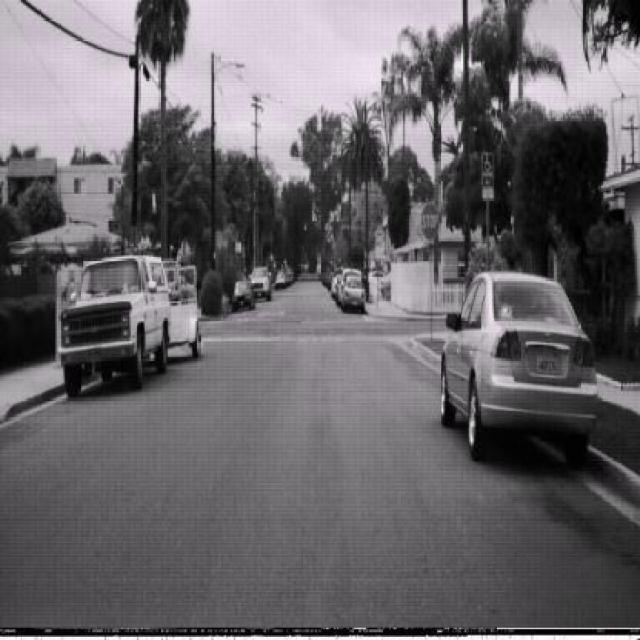stop: (420, 200, 439, 241)
